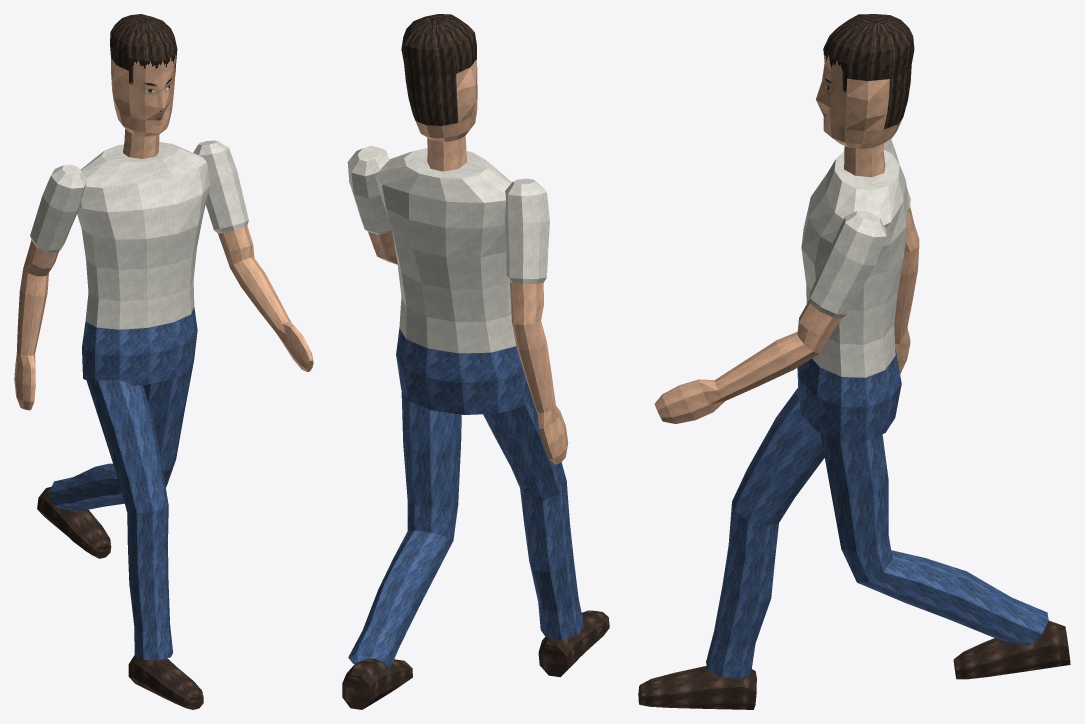
The model's file is walk_17.obj.
3 renders of one model, left to right at view 1: azimuth 30°, elevation 25°; view 2: azimuth 150°, elevation 25°; view 3: azimuth 270°, elevation 25°, orthographic. The views are drawn at different scales.
Size of the model in its own units: 0.6195 by 1.79 by 0.9759.
25 materials, 25 textured.
